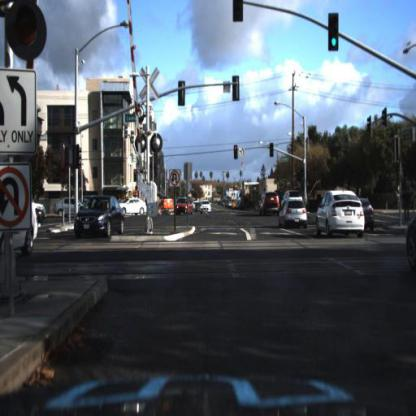car: (65, 193, 131, 249), (315, 186, 367, 247), (314, 187, 367, 240), (73, 196, 128, 240), (278, 197, 314, 233), (279, 196, 310, 232), (54, 196, 95, 221), (119, 191, 150, 221), (116, 197, 149, 220), (364, 189, 378, 242), (259, 189, 281, 217), (261, 190, 283, 217), (175, 197, 194, 222), (35, 195, 49, 224), (282, 191, 297, 206), (284, 188, 302, 200), (201, 199, 212, 217), (194, 198, 201, 214)
trafficLight: (8, 4, 53, 69), (328, 13, 340, 51), (234, 140, 240, 162), (269, 140, 276, 158)
trafficLight-Green: (324, 9, 345, 58), (299, 163, 307, 183)
